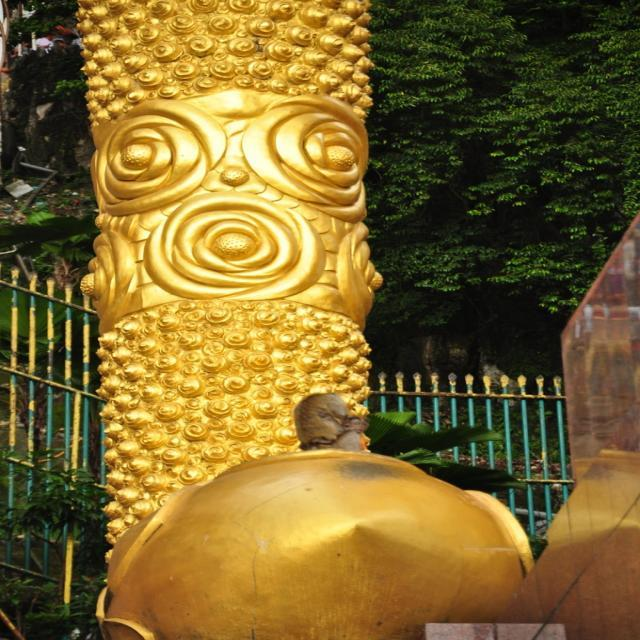rat: (292, 392, 369, 452)
